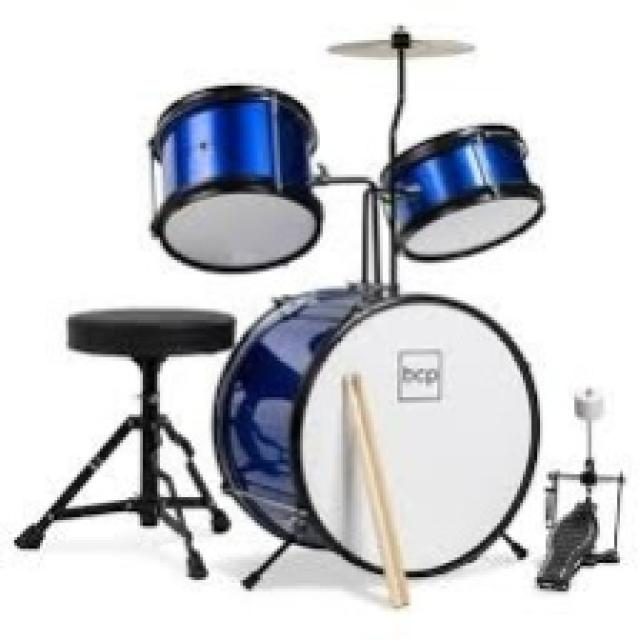drums: (64, 23, 619, 599)
